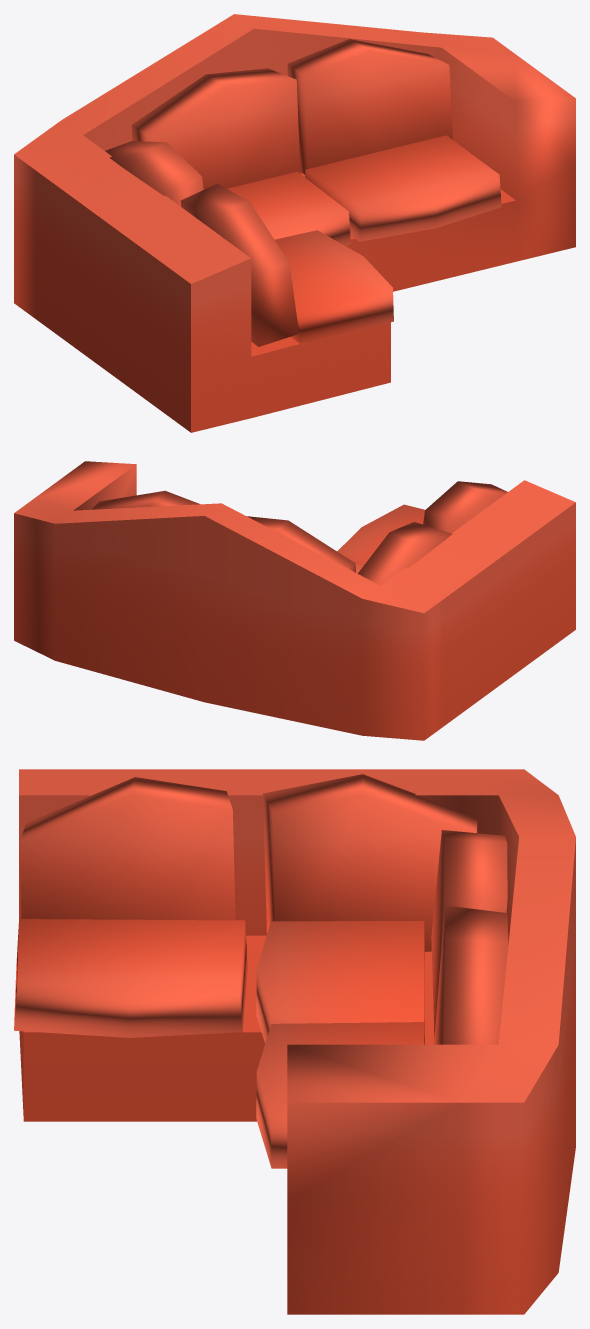
The model's file is Prop_LCouch01.fbx.
3 views of the same model, one above another, from view 1: azimuth 30°, elevation 25°; view 2: azimuth 150°, elevation 25°; view 3: azimuth 270°, elevation 25° (orthographic). The views are drawn at different scales.
Visible parts, largest first — view 1: Prop_LCouchCusion01_5, Prop_LCouchCusion01_2, Prop_LCouchCusion01_1, Prop_LCouchCusion01_4, Prop_LCouchCusion01_6, Prop_LCouchCusion01_8, Prop_LCouchCusion01_3, Prop_LCouchCusion01_7; view 2: Prop_LCouchCusion01_5, Prop_LCouchCusion01_7, Prop_LCouchCusion01_8, Prop_LCouchCusion01_6, Prop_LCouchCusion01_1, Prop_LCouchCusion01_2; view 3: Prop_LCouchCusion01_5, Prop_LCouchCusion01_8, Prop_LCouchCusion01_6, Prop_LCouchCusion01_7, Prop_LCouchCusion01_3, Prop_LCouchCusion01_2, Prop_LCouchCusion01_4, Prop_LCouchCusion01_1.
Boxes of the visible parts, bbox=[...] form: Prop_LCouchCusion01_5: bbox=[14, 14, 575, 432]; Prop_LCouchCusion01_2: bbox=[287, 39, 452, 174]; Prop_LCouchCusion01_1: bbox=[131, 68, 300, 189]; Prop_LCouchCusion01_4: bbox=[305, 135, 501, 241]; Prop_LCouchCusion01_6: bbox=[275, 230, 393, 343]; Prop_LCouchCusion01_8: bbox=[180, 183, 298, 346]; Prop_LCouchCusion01_3: bbox=[227, 171, 350, 245]; Prop_LCouchCusion01_7: bbox=[105, 141, 203, 206]; Prop_LCouchCusion01_5: bbox=[14, 461, 575, 740]; Prop_LCouchCusion01_7: bbox=[358, 522, 452, 585]; Prop_LCouchCusion01_8: bbox=[423, 481, 507, 533]; Prop_LCouchCusion01_6: bbox=[337, 504, 424, 565]; Prop_LCouchCusion01_1: bbox=[247, 516, 355, 572]; Prop_LCouchCusion01_2: bbox=[91, 490, 199, 509]; Prop_LCouchCusion01_5: bbox=[19, 769, 575, 1314]; Prop_LCouchCusion01_8: bbox=[19, 777, 235, 920]; Prop_LCouchCusion01_6: bbox=[14, 919, 247, 1037]; Prop_LCouchCusion01_7: bbox=[263, 774, 478, 951]; Prop_LCouchCusion01_3: bbox=[256, 921, 424, 1044]; Prop_LCouchCusion01_2: bbox=[434, 905, 508, 1044]; Prop_LCouchCusion01_4: bbox=[256, 1022, 424, 1168]; Prop_LCouchCusion01_1: bbox=[431, 830, 507, 1038].
Bounding box in the file's own units: 600 × 261 × 428.
